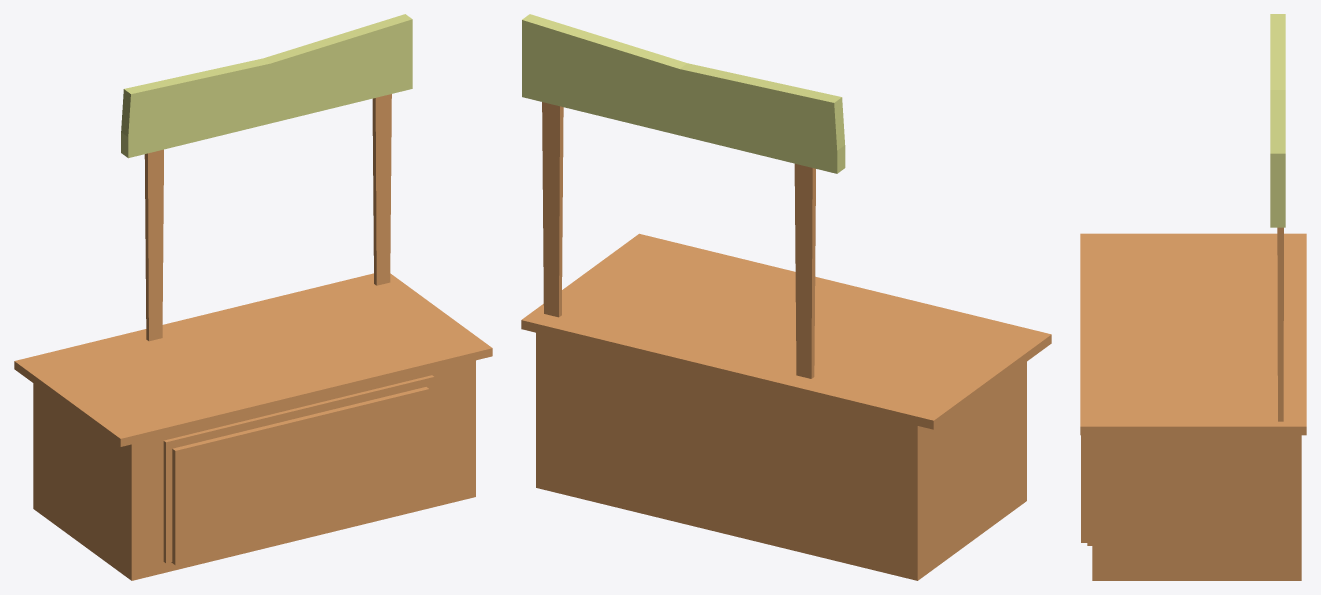
The model's file is Lemonade-Stand.fbx.
3 renders of one model, left to right at view 1: azimuth 30°, elevation 25°; view 2: azimuth 150°, elevation 25°; view 3: azimuth 270°, elevation 25°, orthographic. The views are drawn at different scales.
Parts seen in each view (by area): view 1: Cube, Cube.004; view 2: Cube, Cube.004; view 3: Cube, Cube.004.
Boxes of the visible parts, left/top/right/bottom form: Cube: left=14, top=273, right=492, bottom=580; Cube.004: left=121, top=14, right=412, bottom=341; Cube: left=521, top=233, right=1051, bottom=580; Cube.004: left=522, top=14, right=845, bottom=378; Cube: left=1080, top=233, right=1306, bottom=580; Cube.004: left=1270, top=14, right=1285, bottom=435.
Bounding box in the file's own units: 383 × 395 × 185.
